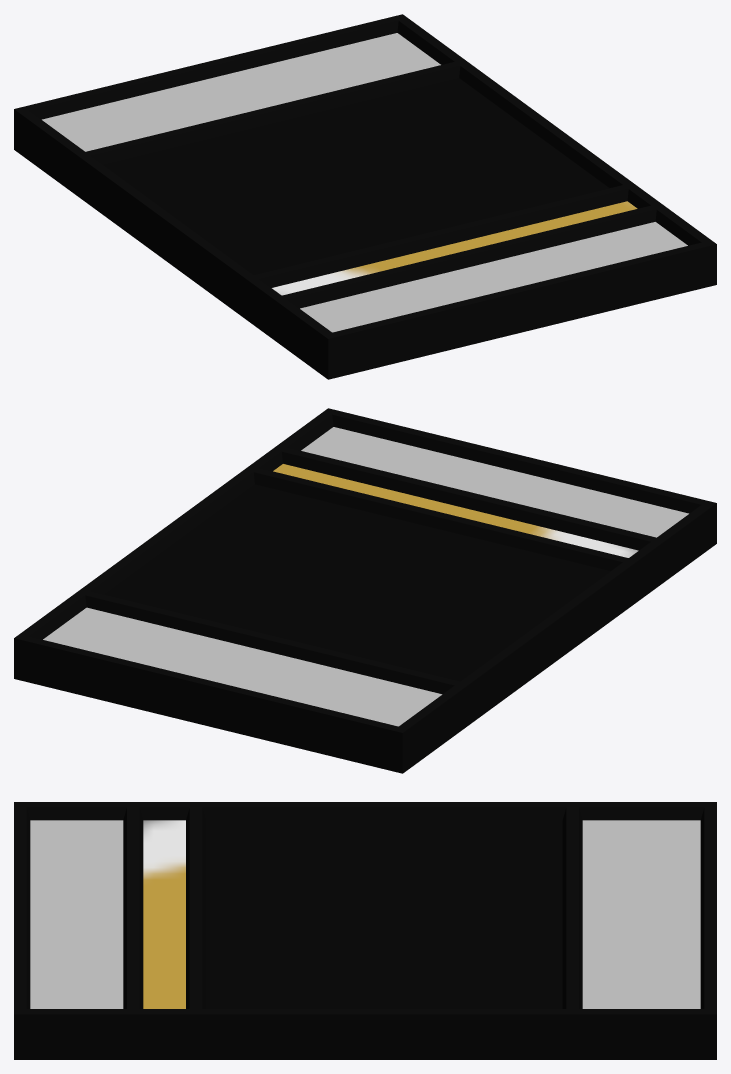
The model's file is player_card_v0001_0008.dae.
3 renders of one model, top to bottom at view 1: azimuth 30°, elevation 25°; view 2: azimuth 150°, elevation 25°; view 3: azimuth 270°, elevation 25°, orthographic. The views are drawn at different scales.
Parts seen in each view (by area): view 1: player_card_mesh; view 2: player_card_mesh; view 3: player_card_mesh.
Boxes of the visible parts, x1,y1,x2,y2 form: player_card_mesh: [14, 14, 716, 379]; player_card_mesh: [14, 408, 716, 773]; player_card_mesh: [14, 802, 716, 1059].
Size of the model in its own units: 400 by 40 by 560.
